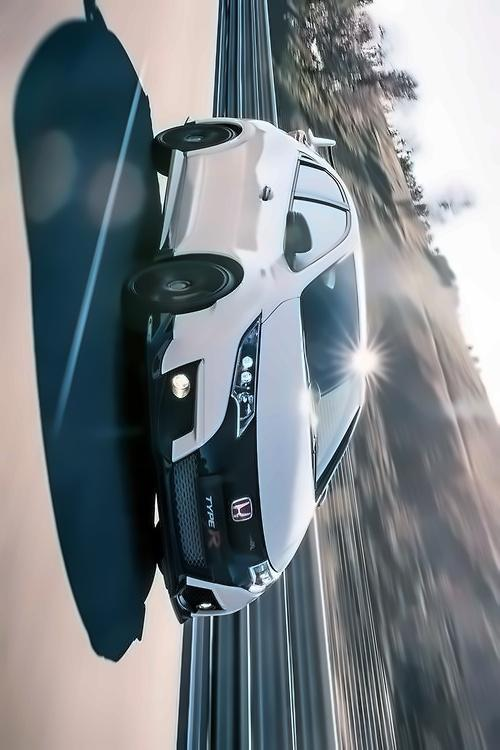Car hood: (245, 286, 320, 576)
Driver-s door - -F-R-: (155, 184, 363, 272)
Fender - -F-R-: (210, 243, 316, 341)
Fender - -R-R-: (230, 114, 306, 156)
Front bumper: (144, 348, 232, 629)
Headlight - -L-: (242, 555, 283, 600)
Headlight - -R-: (227, 306, 264, 439)
Passenger-s door - -R-R-: (159, 139, 364, 217)
Side bumper - -R-: (147, 139, 210, 272)
Side mirror - -R-: (280, 204, 314, 265)
